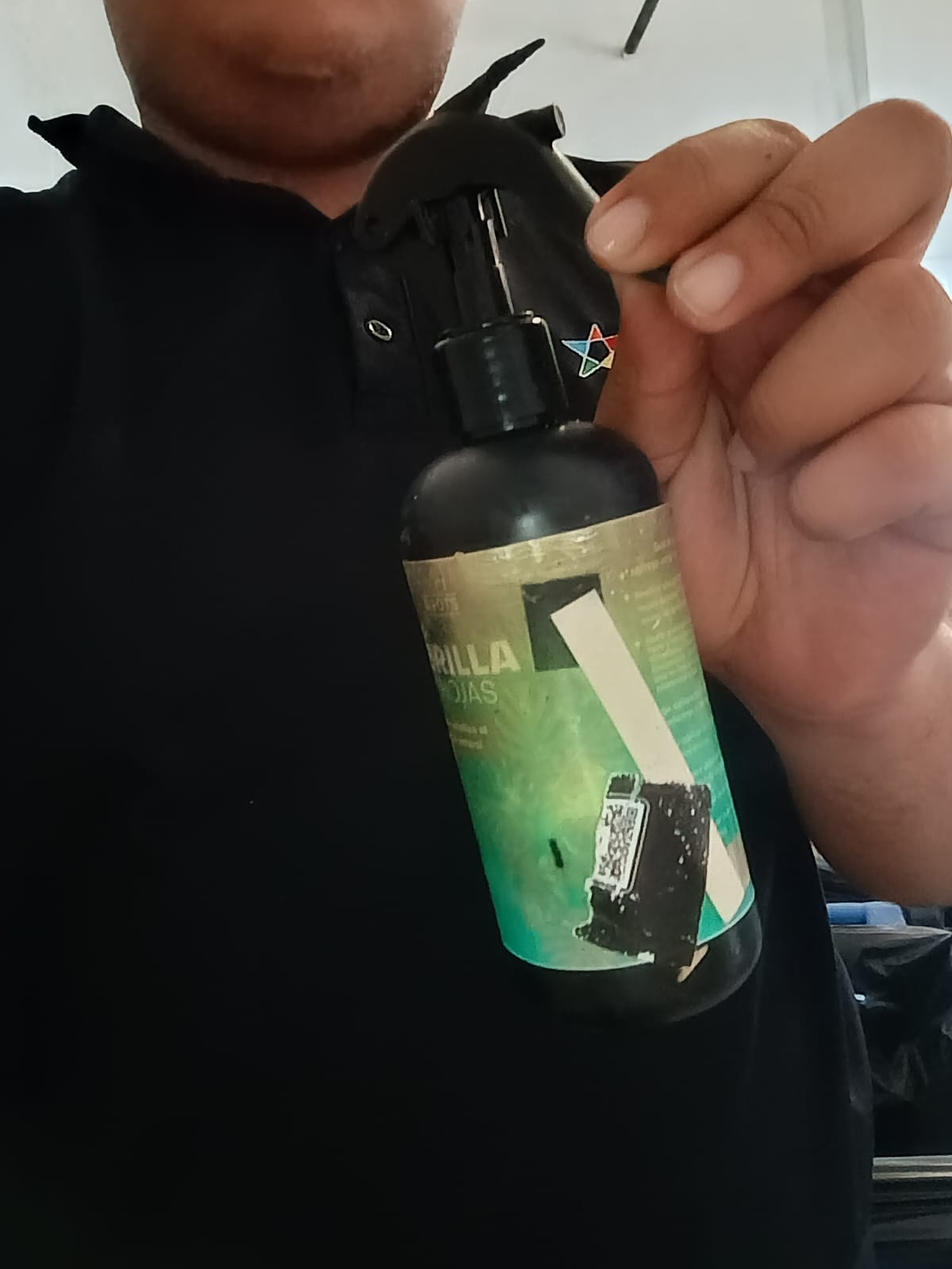Plastico: (398, 418, 767, 1028)
